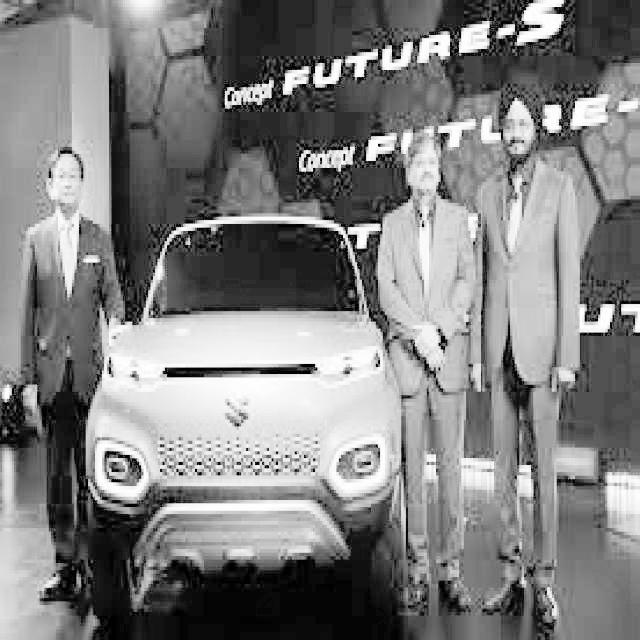Car: (103, 215, 415, 607)
